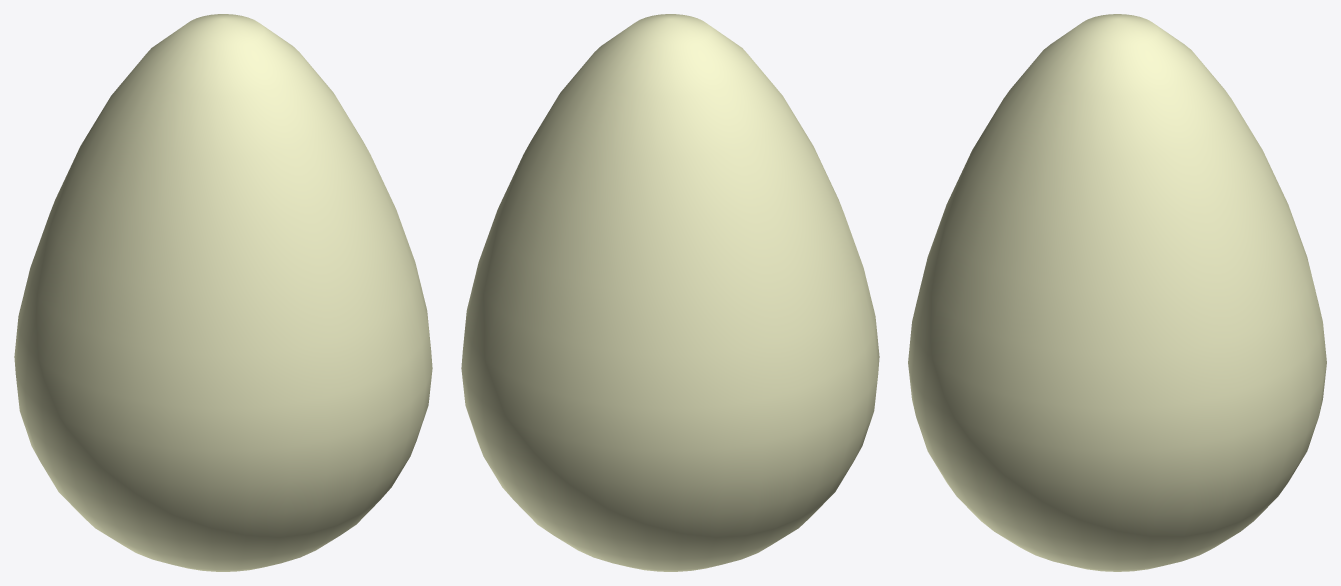
Rendered from egg.obj.
3 renders of one model, left to right at view 1: azimuth 30°, elevation 25°; view 2: azimuth 150°, elevation 25°; view 3: azimuth 270°, elevation 25°, orthographic.
Parts seen in each view (by area): view 1: Sphere001; view 2: Sphere001; view 3: Sphere001.
Boxes of the visible parts, x1=… form: Sphere001: x1=14, y1=14, x2=432, y2=571; Sphere001: x1=461, y1=14, x2=879, y2=571; Sphere001: x1=908, y1=14, x2=1326, y2=571.
Bounding box in the file's own units: 14.8 × 20.78 × 14.8.
